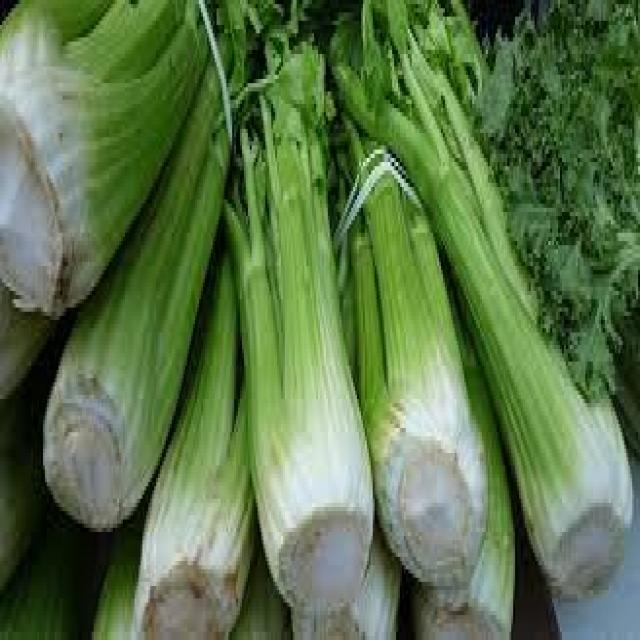organic waste: (327, 0, 632, 598), (39, 0, 273, 528), (218, 0, 372, 598), (332, 70, 488, 578), (468, 0, 638, 391), (0, 0, 209, 312), (130, 224, 254, 636), (406, 282, 513, 636), (0, 503, 100, 636), (0, 324, 51, 578), (287, 524, 396, 636), (84, 499, 140, 636), (224, 532, 285, 636), (0, 282, 55, 394), (609, 324, 638, 466)
